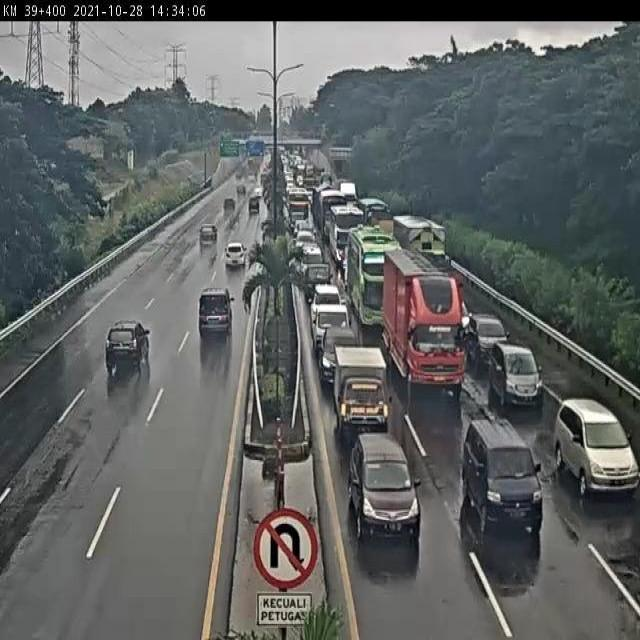bus-l-: (348, 228, 401, 329), (328, 206, 368, 262)
car: (460, 414, 543, 530), (556, 400, 640, 497), (349, 432, 422, 537), (331, 336, 388, 423), (488, 341, 544, 408), (104, 318, 151, 374), (196, 288, 237, 347), (320, 331, 361, 386), (313, 303, 352, 357), (466, 313, 508, 360), (298, 258, 330, 298), (307, 283, 346, 308), (448, 299, 471, 340), (296, 238, 320, 266), (294, 222, 312, 242)
truck-l-: (380, 247, 459, 393), (392, 212, 456, 284)
